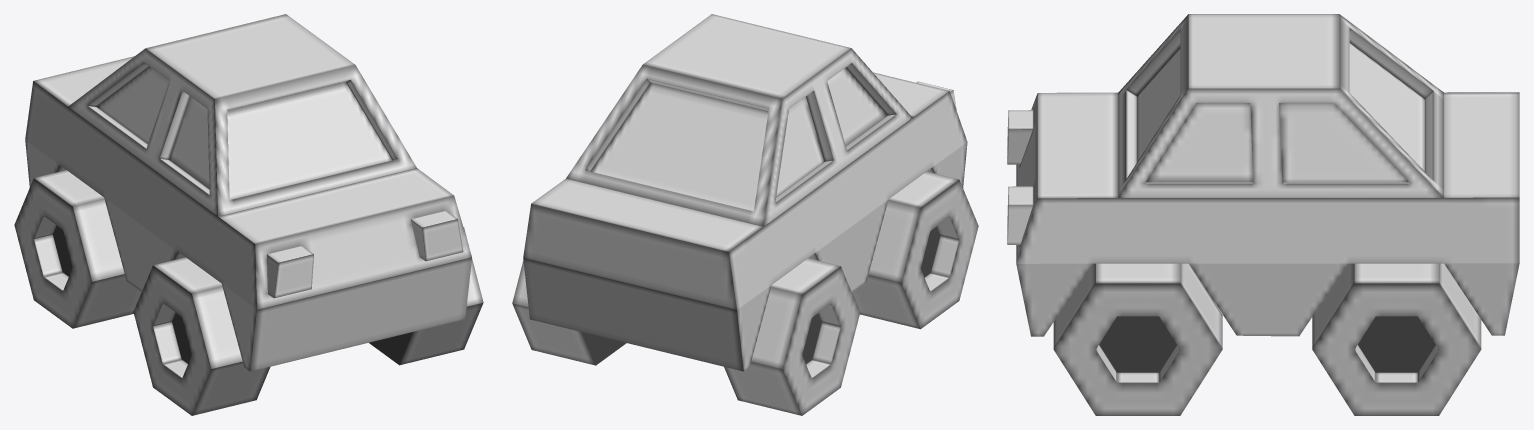
File: Vehicle-06.fbx
3 views of the same model, side by side, from view 1: azimuth 30°, elevation 25°; view 2: azimuth 150°, elevation 25°; view 3: azimuth 270°, elevation 25° (orthographic). The views are drawn at different scales.
Visible parts, largest first — view 1: Vehicle_06, Vehicle_06_Wheel_BL, Vehicle_06_Wheel_FL, Vehicle_06_Wheel_FR; view 2: Vehicle_06, Vehicle_06_Wheel_FL, Vehicle_06_Wheel_BL, Vehicle_06_Wheel_BR; view 3: Vehicle_06, Vehicle_06_Wheel_BR, Vehicle_06_Wheel_FR.
Boxes of the visible parts, box(x1,y1,x2,y2) form: Vehicle_06: box(25, 14, 471, 371); Vehicle_06_Wheel_BL: box(133, 257, 270, 415); Vehicle_06_Wheel_FL: box(14, 170, 141, 328); Vehicle_06_Wheel_FR: box(369, 227, 483, 365); Vehicle_06: box(523, 14, 967, 371); Vehicle_06_Wheel_FL: box(724, 258, 860, 415); Vehicle_06_Wheel_BL: box(852, 171, 978, 329); Vehicle_06_Wheel_BR: box(512, 261, 626, 365); Vehicle_06: box(1007, 14, 1519, 336); Vehicle_06_Wheel_BR: box(1312, 263, 1481, 415); Vehicle_06_Wheel_FR: box(1053, 263, 1222, 415).
Size of the model in its own units: 0.9475 by 0.8963 by 1.42.
